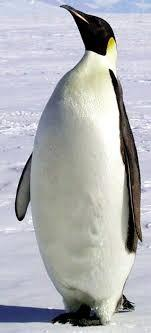emporer: (11, 1, 151, 328)
